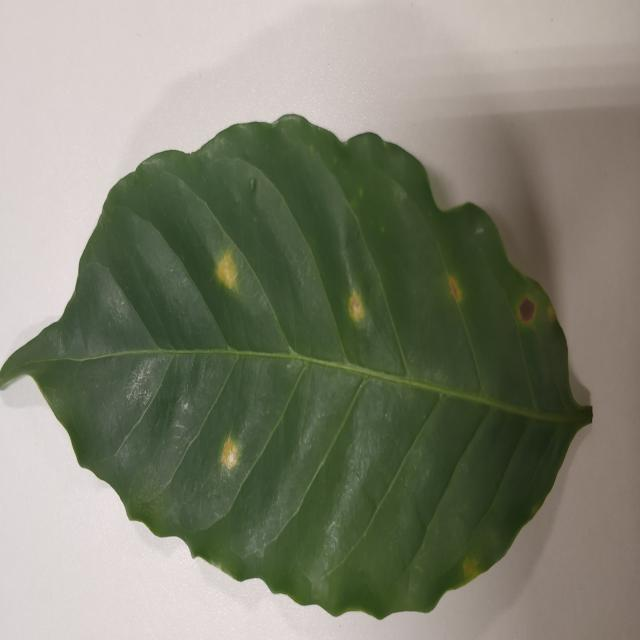Enfermedad-Roya: (0, 114, 594, 622)
